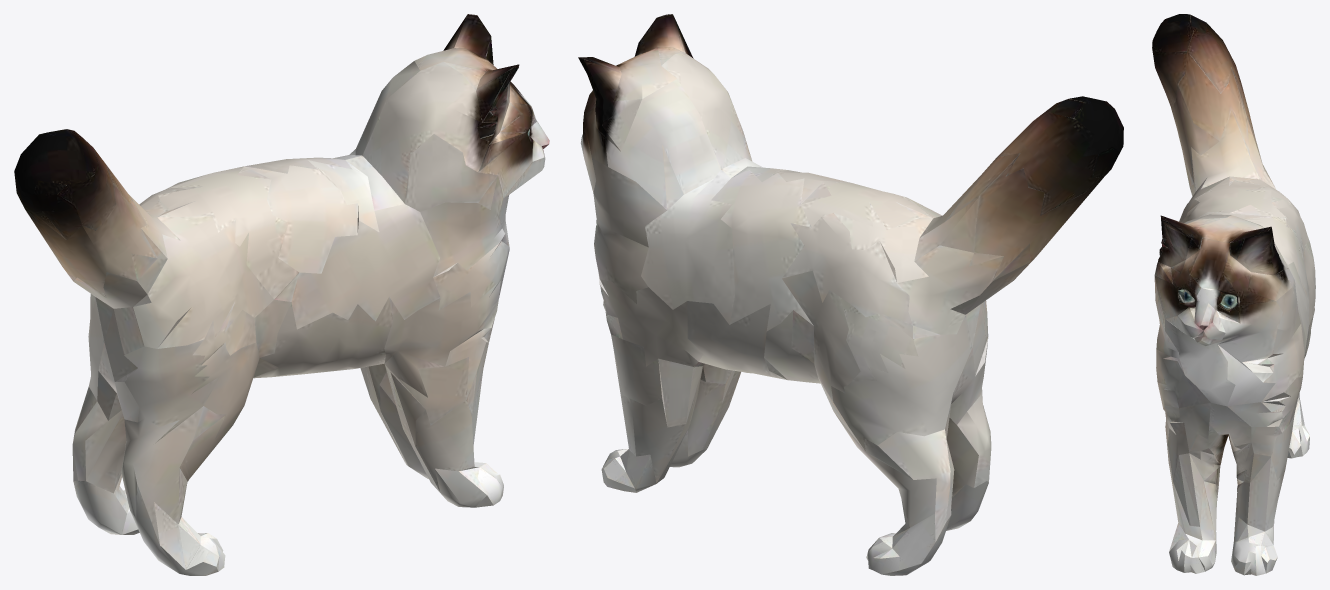
The model's file is BENBUTTON-lo.glb.
3 renders of one model, left to right at view 1: azimuth 30°, elevation 25°; view 2: azimuth 150°, elevation 25°; view 3: azimuth 270°, elevation 25°, orthographic. The views are drawn at different scales.
Visible parts, largest first — view 1: output_unwrapped; view 2: output_unwrapped; view 3: output_unwrapped.
Boxes of the visible parts, x1,y1,x2,y2 form: output_unwrapped: (14, 14, 549, 575); output_unwrapped: (578, 14, 1123, 575); output_unwrapped: (1152, 14, 1315, 575).
Size of the model in its own units: 1.19 by 1 by 0.3884.
Materials: 1 (1 with a texture image).
